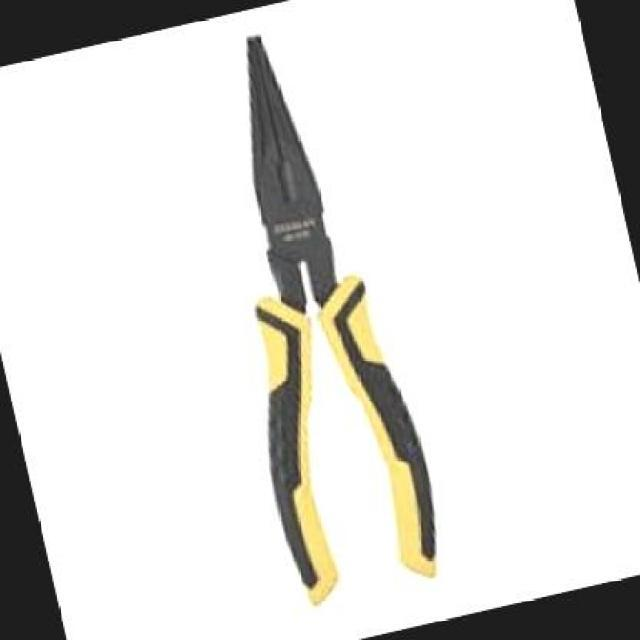pliers: (104, 0, 504, 638)
